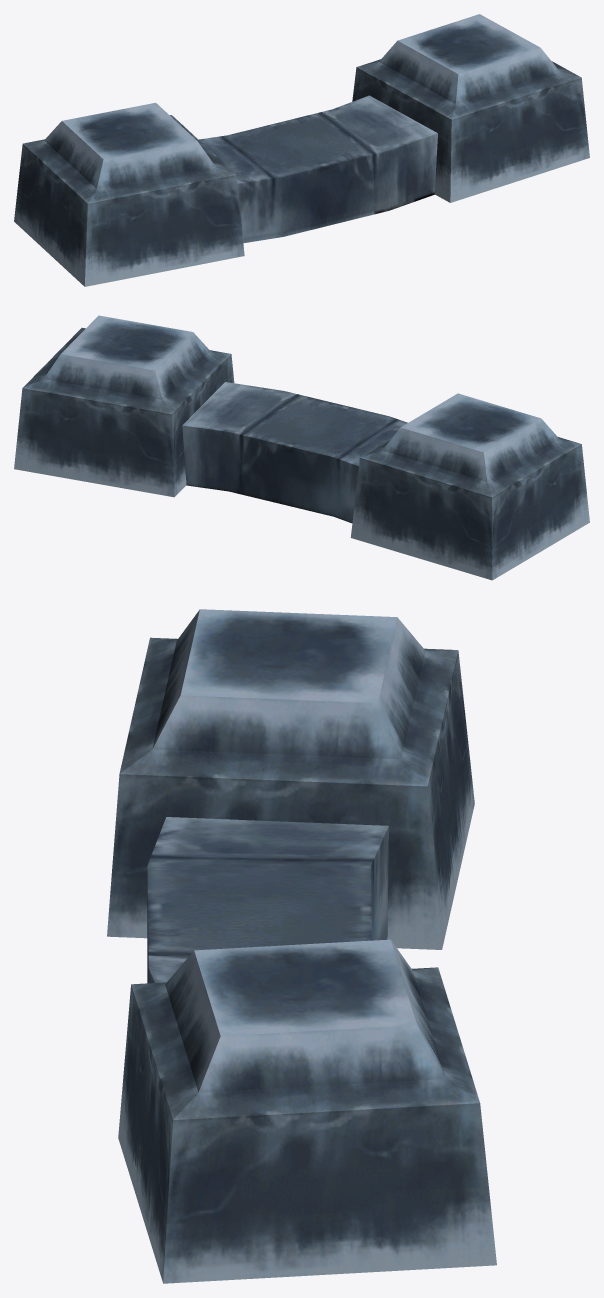
File: Ice_edge03.FBX
The picture shows the model from 3 angles, top to bottom: view 1: azimuth 30°, elevation 25°; view 2: azimuth 150°, elevation 25°; view 3: azimuth 270°, elevation 25°; orthographic projection. The views are drawn at different scales.
Parts seen in each view (by area): view 1: Object15874; view 2: Object15874; view 3: Object15874.
Part boxes in pixels (<box>): Object15874: <box>14,14,589,286</box>; Object15874: <box>14,315,589,580</box>; Object15874: <box>107,609,496,1283</box>.
Bounding box in the file's own units: 667 × 135 × 223.
